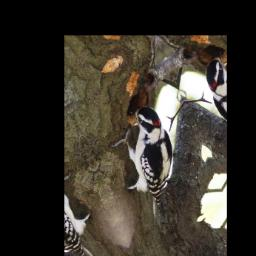Woodpecker: (102, 95, 192, 224)
